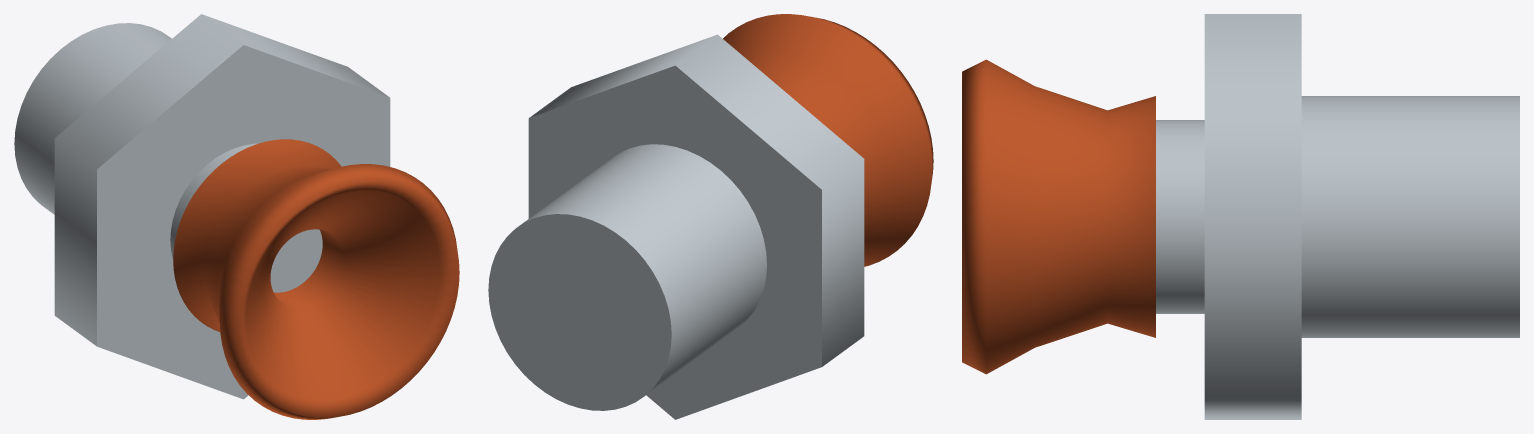
Rendered from mount.obj.
3 views of the same model, side by side, from view 1: azimuth 30°, elevation 25°; view 2: azimuth 150°, elevation 25°; view 3: azimuth 270°, elevation 25° (orthographic). The views are drawn at different scales.
Parts seen in each view (by area): view 1: hex_sw8, cup, m5_nipple, neck; view 2: hex_sw8, m5_nipple, cup; view 3: m5_nipple, cup, hex_sw8, neck.
Boxes of the visible parts, x1,y1,x2,y2 form: hex_sw8: [54, 14, 390, 399]; cup: [173, 139, 459, 419]; m5_nipple: [14, 23, 171, 214]; neck: [170, 143, 322, 292]; hex_sw8: [528, 34, 864, 419]; m5_nipple: [488, 144, 766, 410]; cup: [723, 14, 933, 266]; m5_nipple: [1301, 96, 1519, 337]; cup: [962, 59, 1155, 374]; hex_sw8: [1204, 14, 1301, 419]; neck: [1156, 120, 1204, 313].
Bounding box in the file's own units: 0.008 × 0.00924 × 0.0115.
